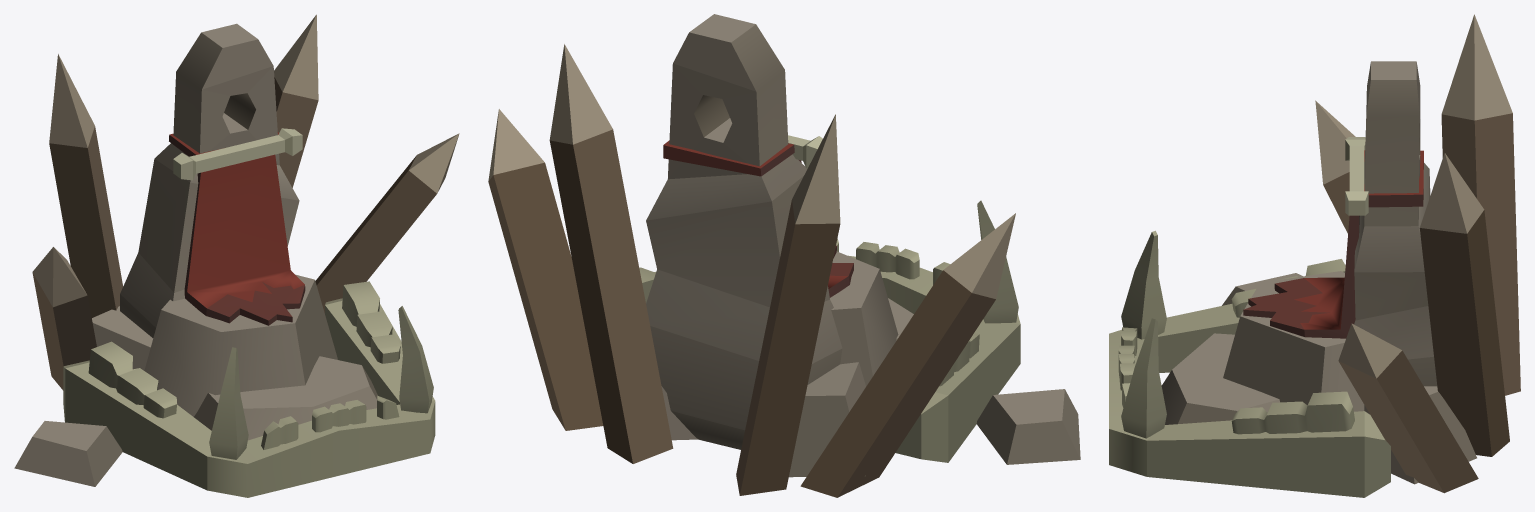
File: Model_Horde_2x2B.fbx
The picture shows the model from 3 angles, left to right: view 1: azimuth 30°, elevation 25°; view 2: azimuth 150°, elevation 25°; view 3: azimuth 270°, elevation 25°; orthographic projection. The views are drawn at different scales.
Parts seen in each view (by area): view 1: Model_Frost_2x2B; view 2: Model_Frost_2x2B; view 3: Model_Frost_2x2B.
Part boxes in pixels (bbox=[...]): Model_Frost_2x2B: bbox=[14, 14, 459, 497]; Model_Frost_2x2B: bbox=[488, 14, 1080, 497]; Model_Frost_2x2B: bbox=[1109, 14, 1520, 497].
Bounding box in the file's own units: 472 × 323 × 335.
Materials: 1 (1 with a texture image).
